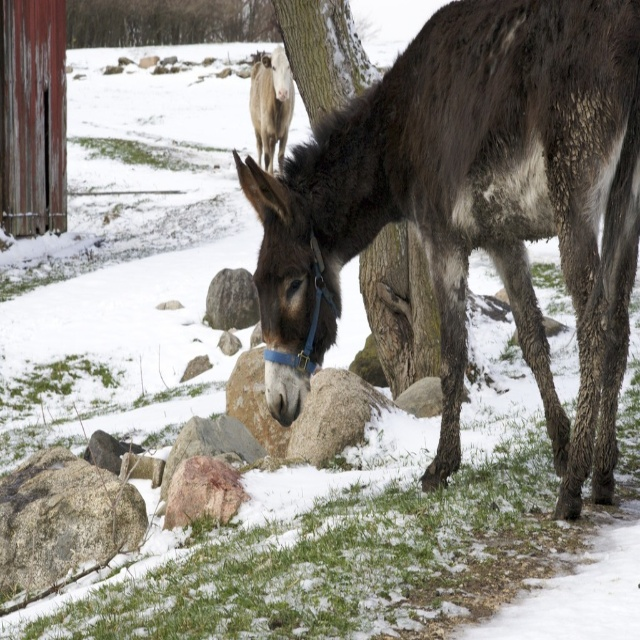Mule: (232, 0, 640, 520)
